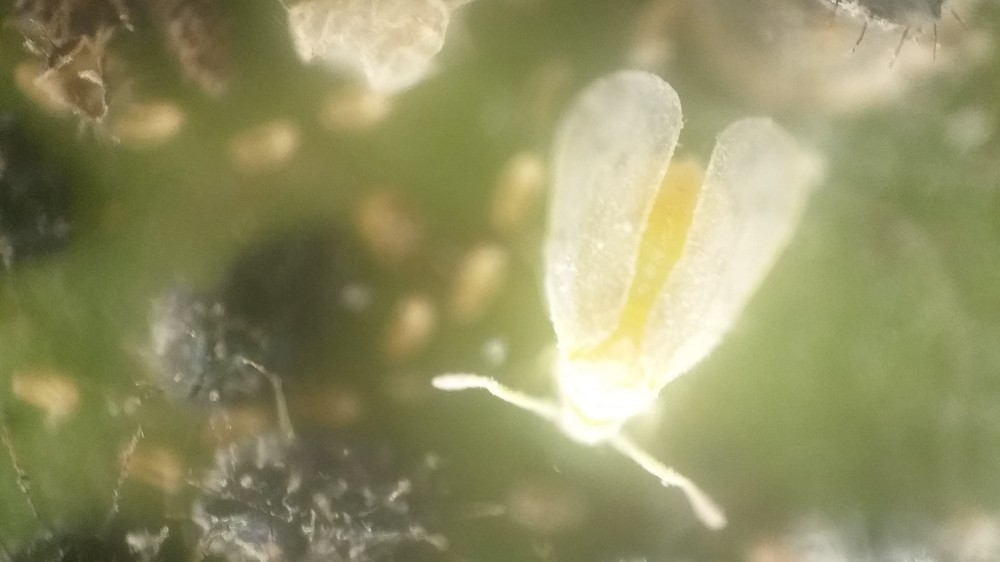Mosca Blanca: (413, 48, 846, 544)
